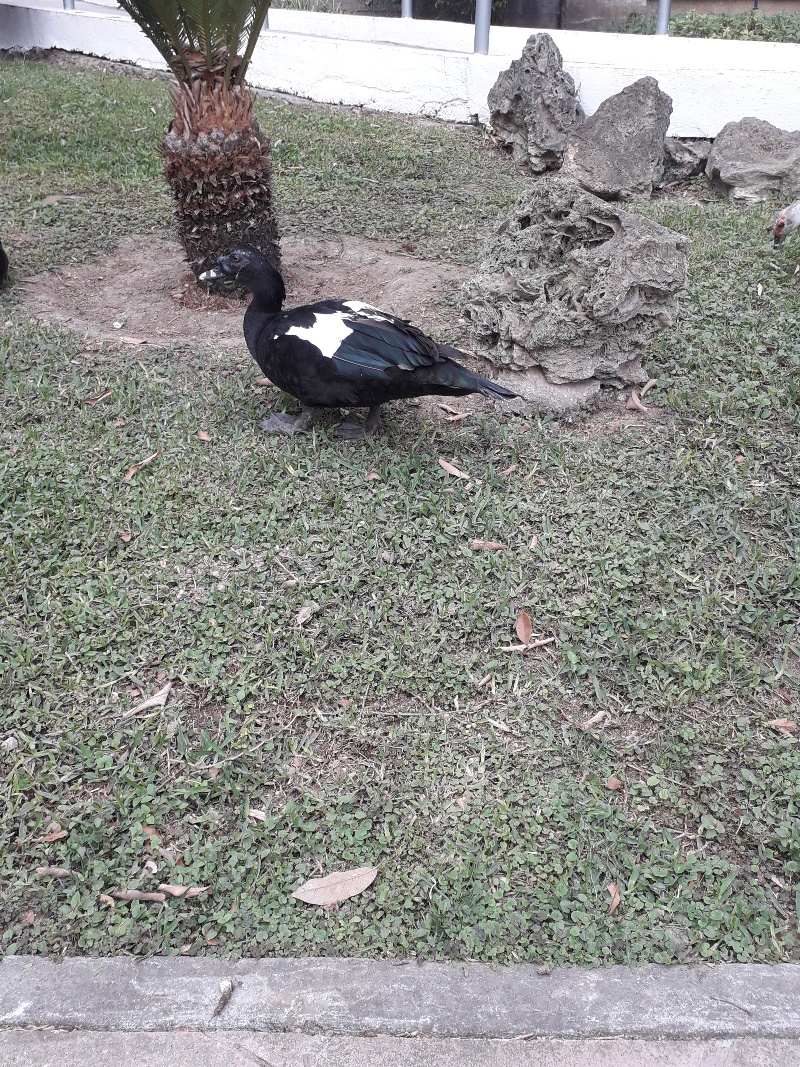pato: (212, 247, 477, 417)
